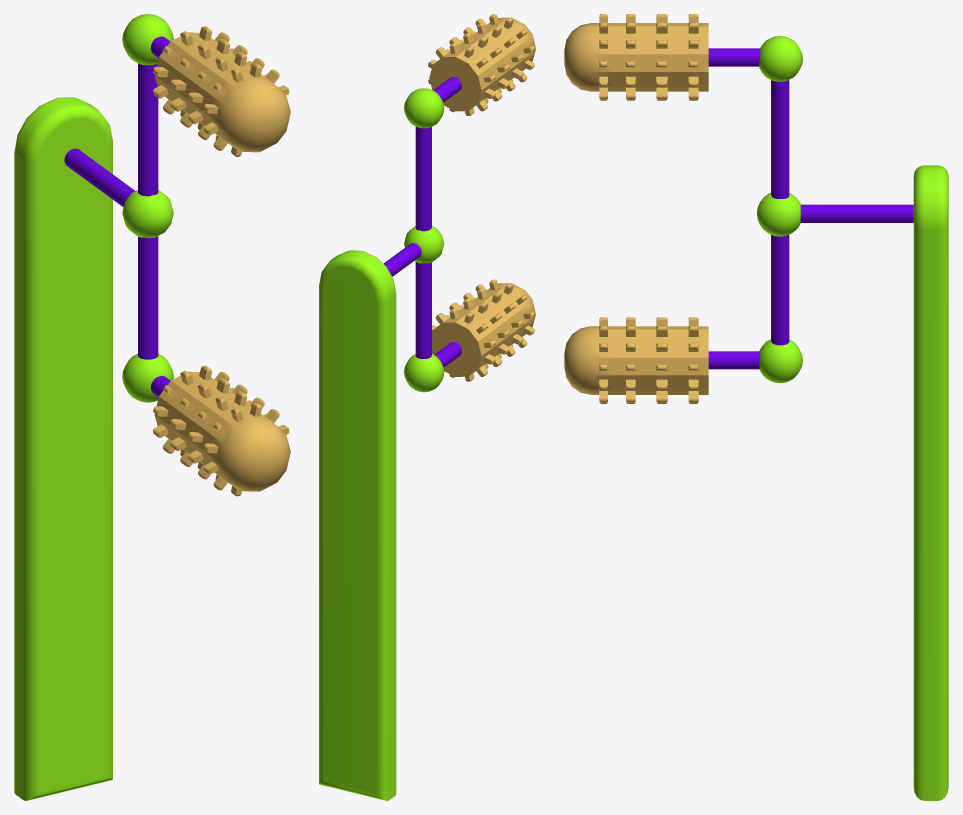
The model's file is Obstacle1.fbx.
3 views of the same model, side by side, from view 1: azimuth 30°, elevation 25°; view 2: azimuth 150°, elevation 25°; view 3: azimuth 270°, elevation 25° (orthographic). The views are drawn at different scales.
Parts seen in each view (by area): view 1: Body, Thom, Rod; view 2: Body, Thom, Rod; view 3: Thom, Body, Rod.
Part boxes in pixels (x1,y1,x2,y2): Body: (14, 97, 112, 800); Thom: (122, 14, 290, 496); Rod: (64, 148, 135, 207); Body: (319, 250, 396, 800); Thom: (404, 14, 535, 392); Rod: (383, 243, 421, 276); Thom: (564, 14, 802, 403); Body: (913, 165, 948, 800); Rod: (800, 204, 913, 222).
Bounding box in the file's own units: 86.65 × 803 × 366.
